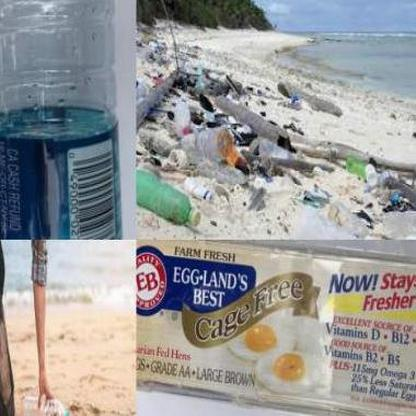plastic bottle: (1, 1, 125, 238), (138, 167, 199, 228), (22, 396, 68, 416)
